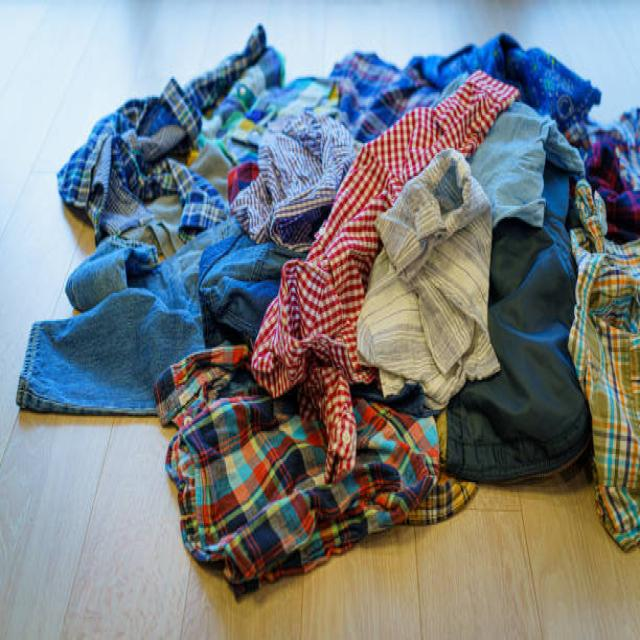trash: (54, 74, 640, 551)
